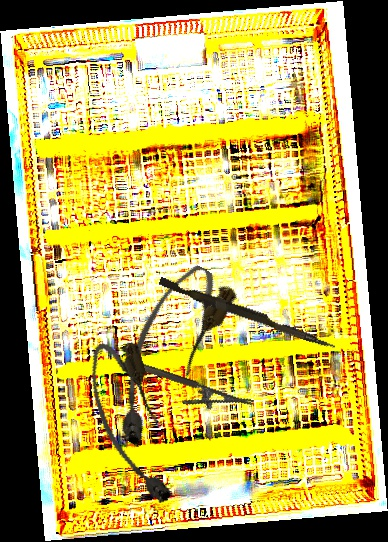Cannula: (89, 256, 242, 453), (81, 334, 182, 514)
Needle Holder: (121, 357, 255, 426)
Pusher: (156, 276, 339, 351)
